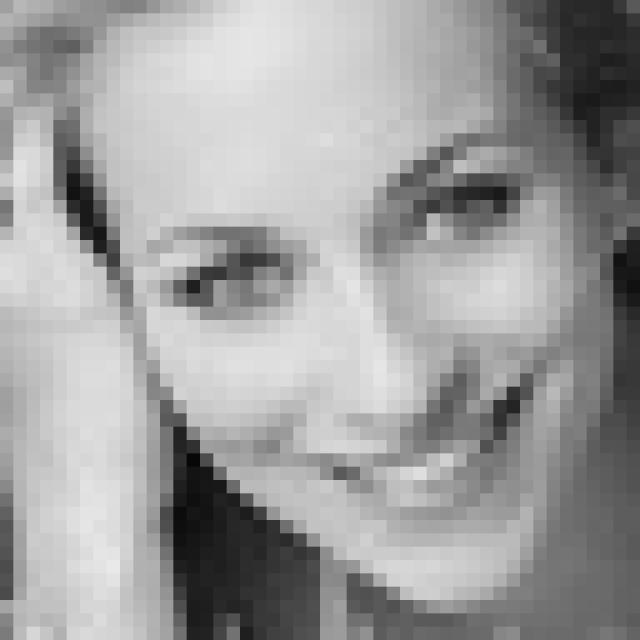happy: (139, 126, 558, 538)
